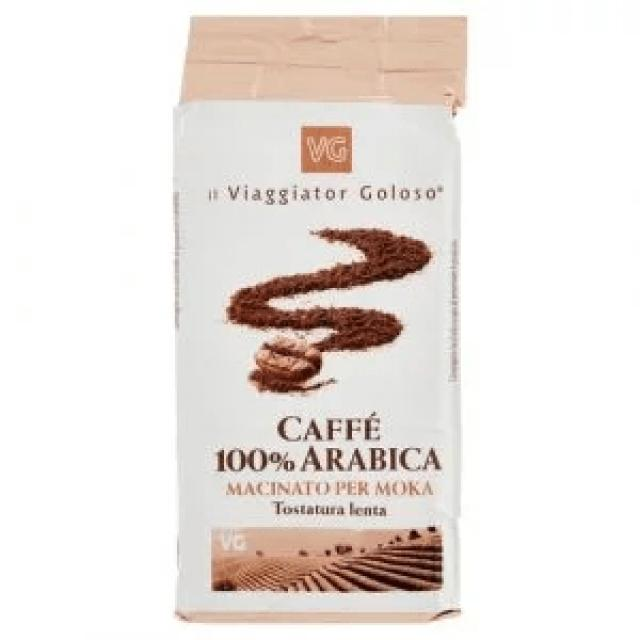coffee: (171, 15, 469, 627)
